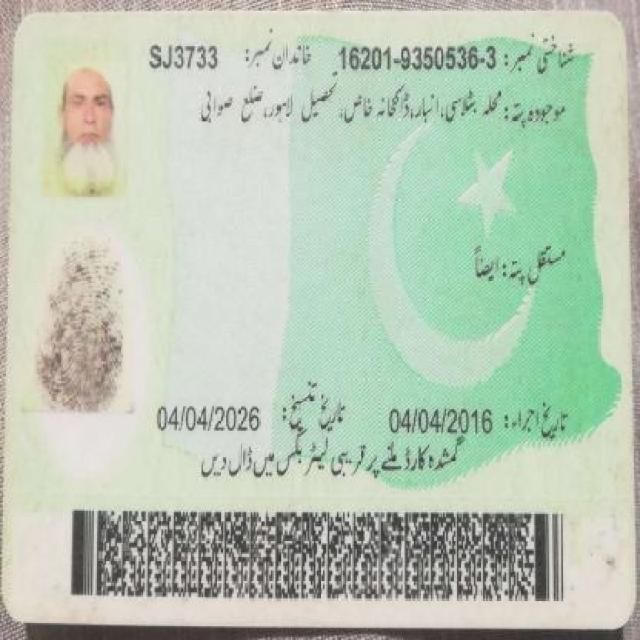Back: (9, 9, 628, 626)
